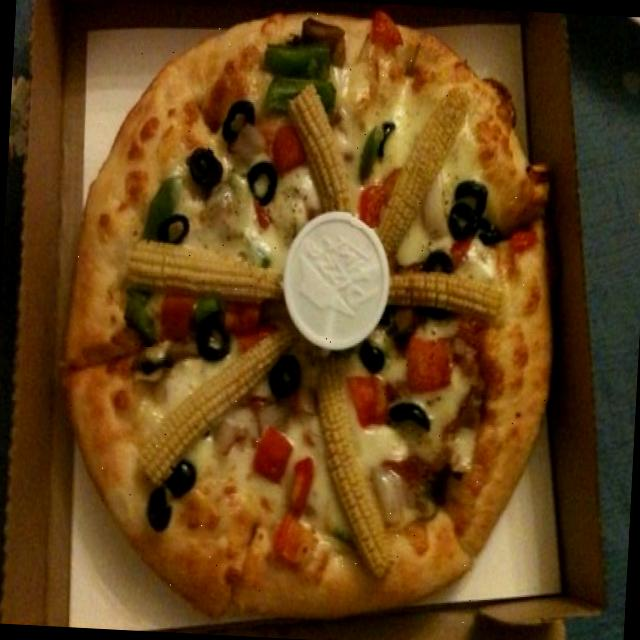Bell Pepper: (250, 36, 344, 136), (349, 90, 400, 182), (140, 158, 181, 258), (118, 270, 168, 346)
Olive: (438, 159, 512, 244), (140, 451, 202, 529), (386, 394, 451, 449), (182, 136, 230, 208), (208, 87, 259, 154), (262, 344, 314, 404), (232, 156, 284, 212), (192, 310, 236, 370), (146, 206, 187, 245)
pizza: (62, 13, 552, 615)
tomato: (271, 450, 330, 578), (146, 272, 208, 360), (338, 359, 394, 430), (264, 107, 309, 190), (246, 418, 304, 478), (401, 330, 456, 391), (351, 164, 396, 228), (218, 288, 262, 340), (362, 2, 402, 59)
